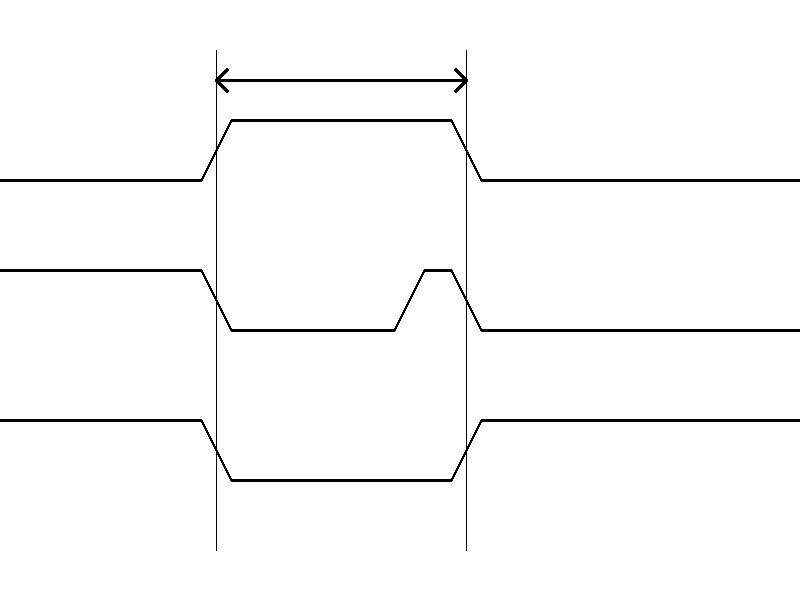double_arrow: (216, 65, 466, 95)
